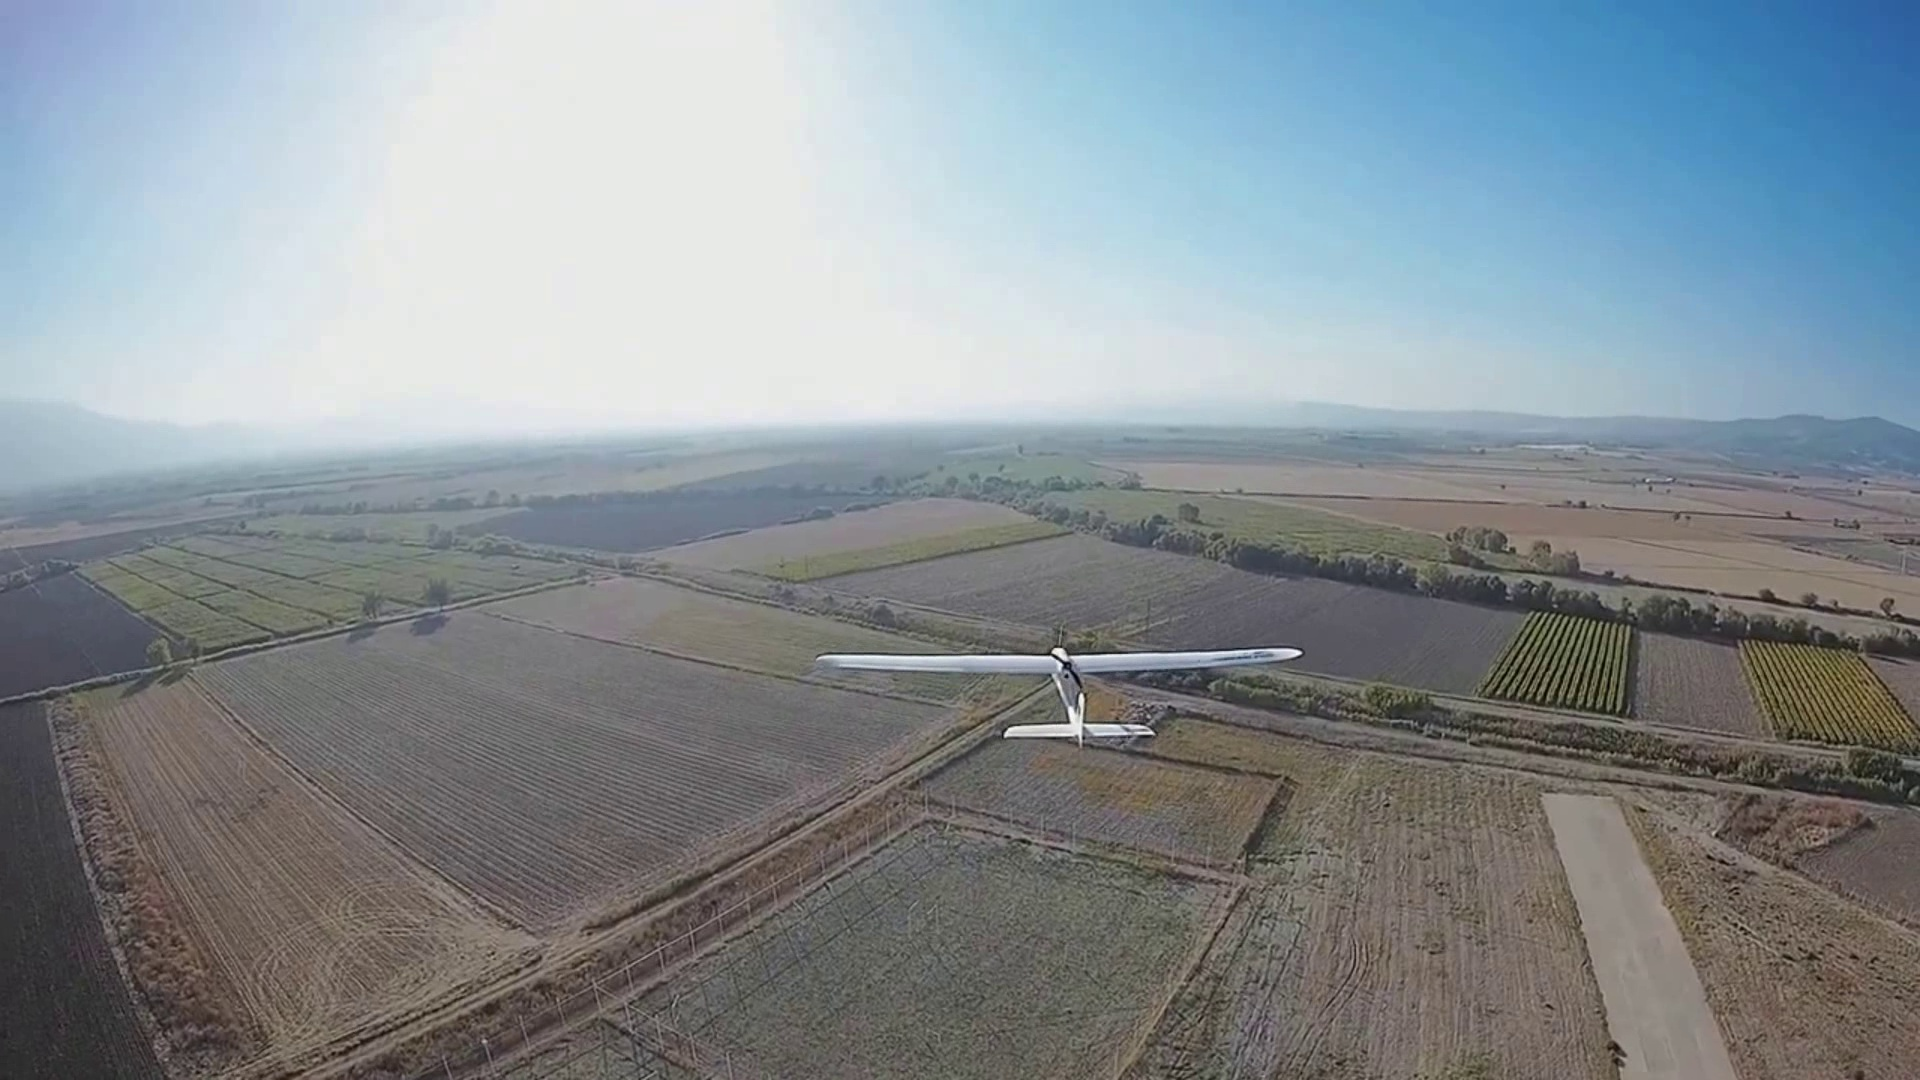airplane: (803, 633, 1303, 750)
